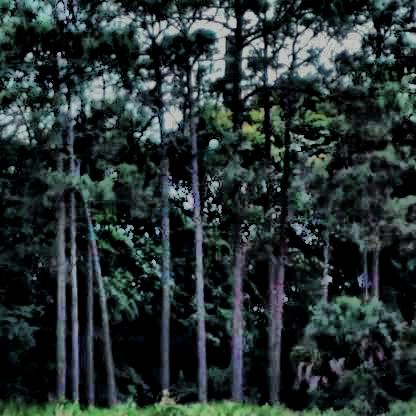golfball: (207, 136, 217, 145)
